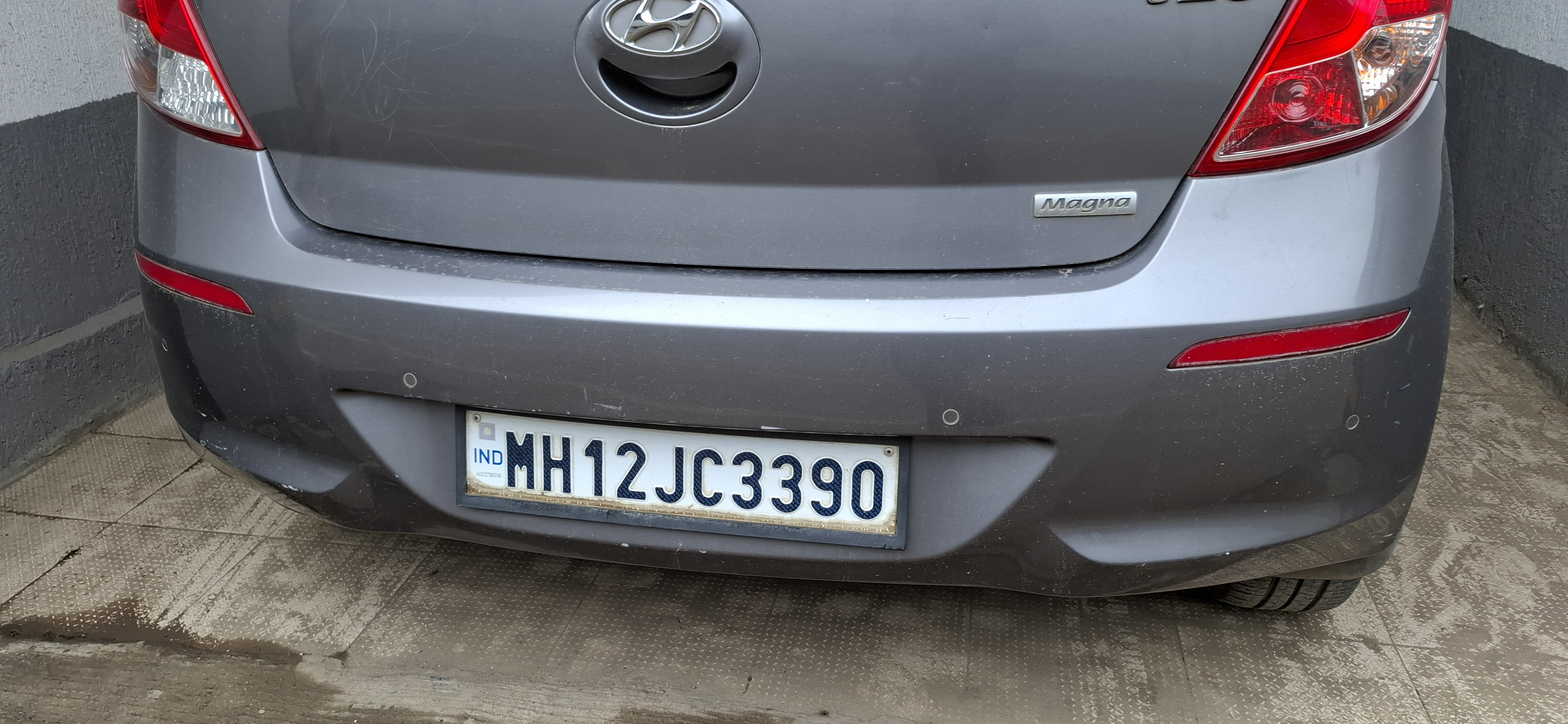license_plate: (88, 1, 1462, 610)
